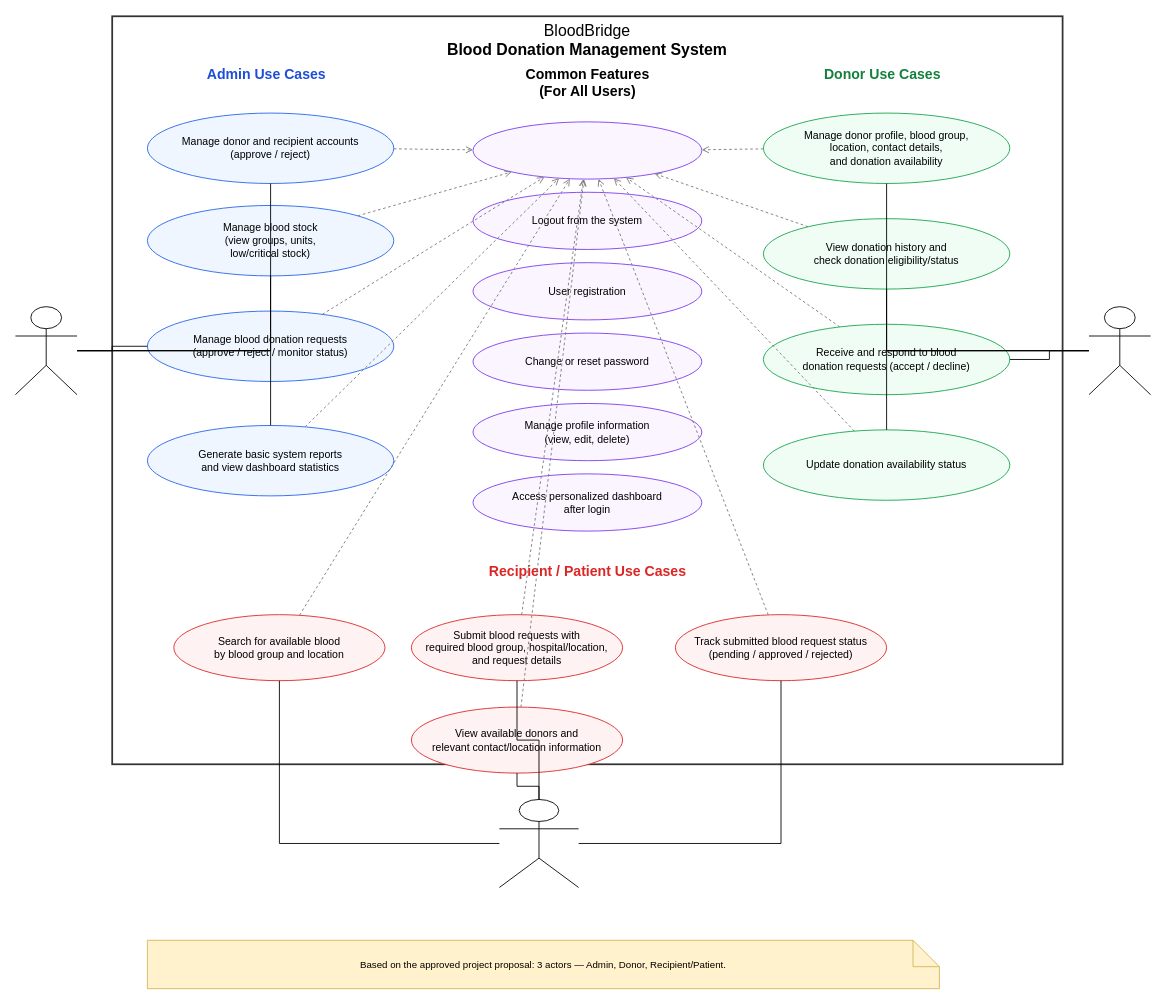
Image size: 1166x1004. Some labels were removed from this diagram. Each missing label, with the box of its shape:
Login to the system: (472, 121, 702, 179)
👤 Admin: (15, 306, 77, 395)
👤 Donor: (1088, 306, 1151, 395)
👤 Recipient / Patient: (499, 799, 579, 887)
